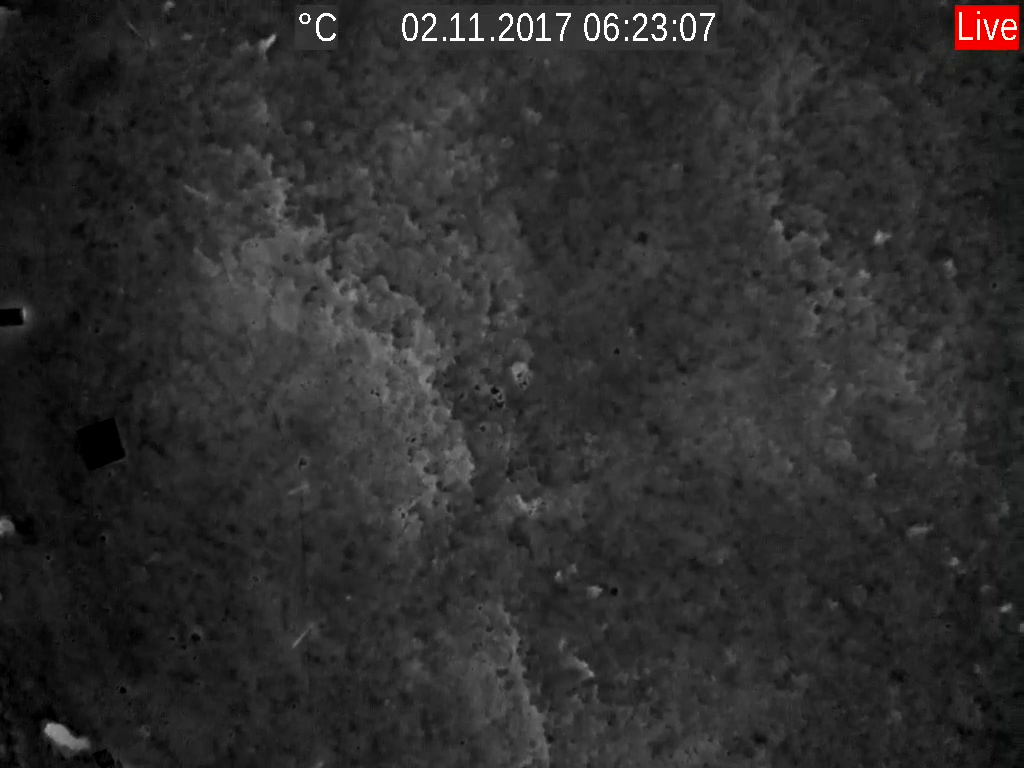warren: (36, 708, 95, 757), (286, 622, 313, 651), (281, 477, 313, 499)
